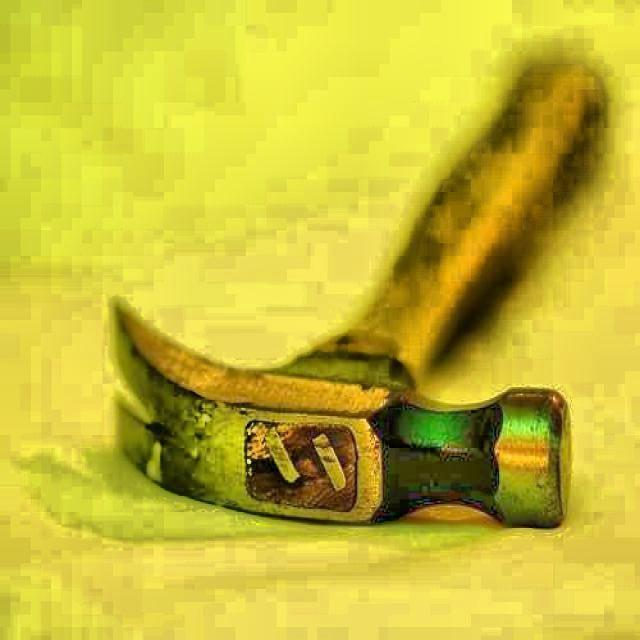hammer: (111, 49, 587, 531)
